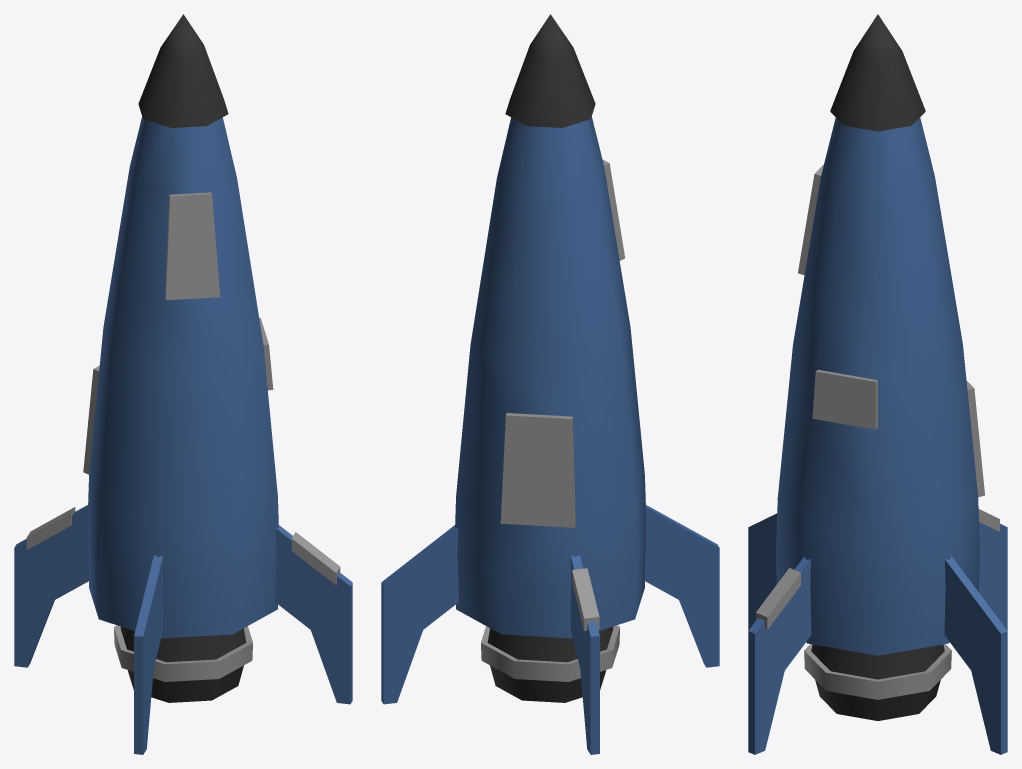
The model's file is Rocket.fbx.
3 views of the same model, side by side, from view 1: azimuth 30°, elevation 25°; view 2: azimuth 150°, elevation 25°; view 3: azimuth 270°, elevation 25° (orthographic). The views are drawn at different scales.
Visible parts, largest first — view 1: Sphere.007; view 2: Sphere.007; view 3: Sphere.007.
Part boxes in pixels (<box>): Sphere.007: <box>14,14,352,754</box>; Sphere.007: <box>381,14,719,754</box>; Sphere.007: <box>748,14,1007,754</box>.
Bounding box in the file's own units: 54.42 × 159 × 54.54.
